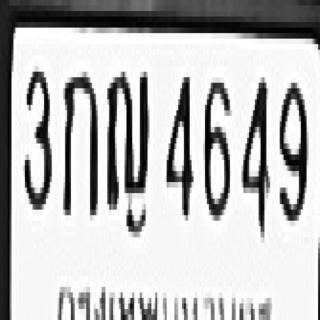A01: (61, 64, 96, 212)
A13: (105, 64, 148, 212)
N03: (21, 61, 50, 204)
N04: (240, 69, 268, 229), (165, 72, 192, 215)
N06: (201, 72, 228, 215)
N09: (278, 77, 307, 221)
